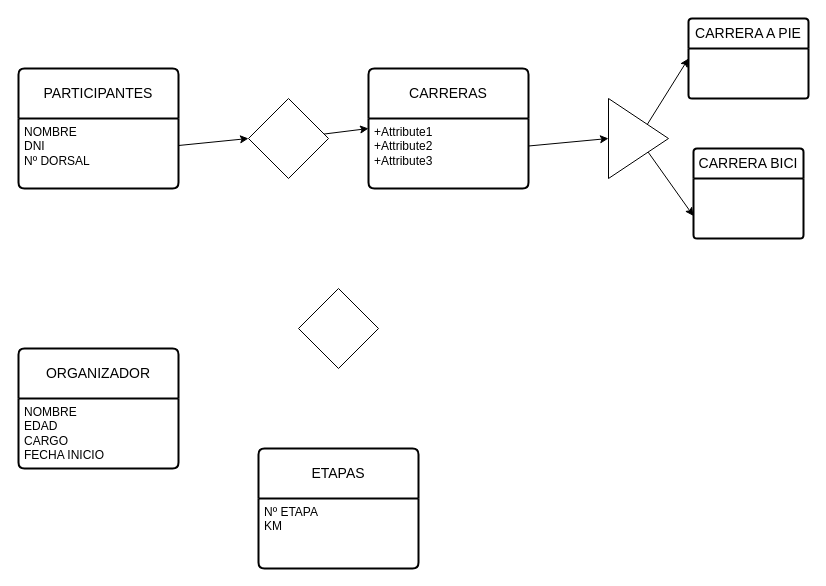
Image size: 826x586. Some labels were removed from this diagram. The shapes that lost their labels are listed below. From the top down, each one's centre as x and y in pixels, then its label:
At pixel 288 138: "PARTICIPA".
At pixel 338 328: "CONTIENE".
